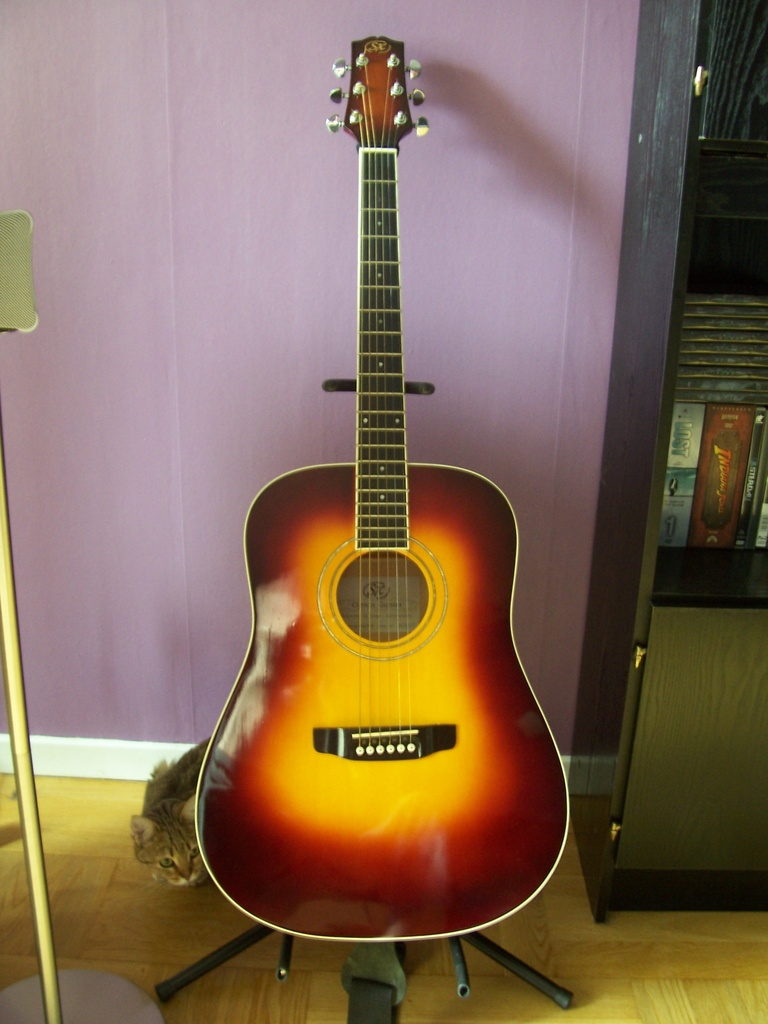guitar: (195, 38, 570, 942)
